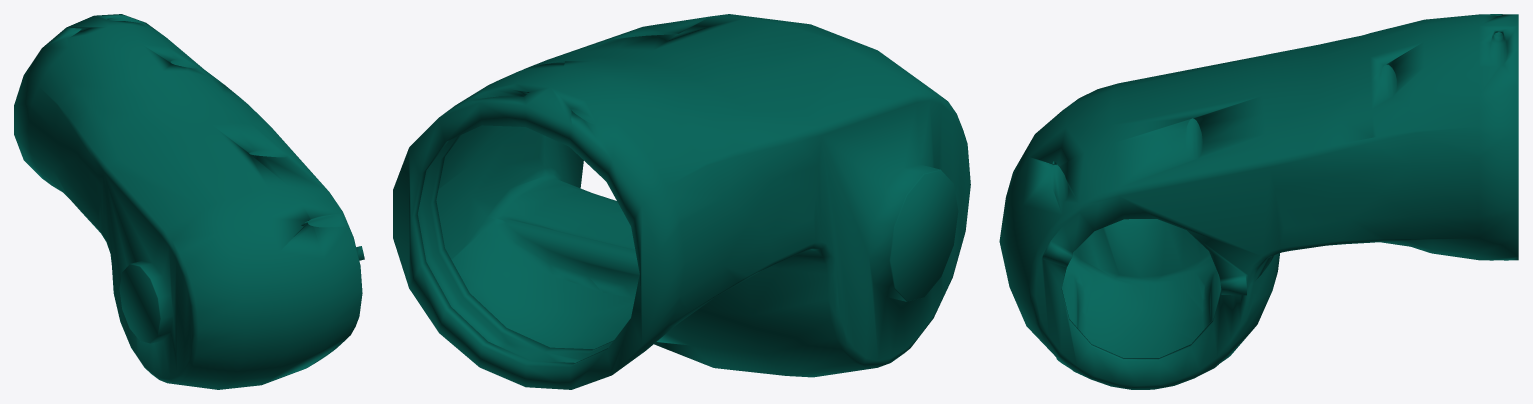
Rendered from 2h09050_arml_t45.obj.
3 views of the same model, side by side, from view 1: azimuth 30°, elevation 25°; view 2: azimuth 150°, elevation 25°; view 3: azimuth 270°, elevation 25° (orthographic). The views are drawn at different scales.
Bounding box in the file's own units: 0.1445 × 0.189 × 0.2629.
